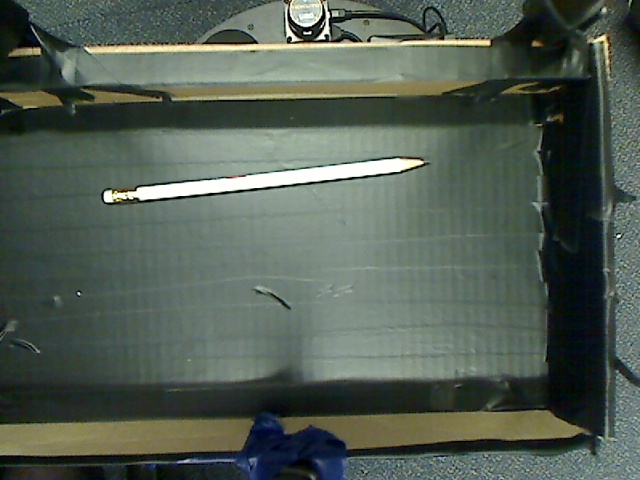pencil: (93, 147, 437, 213)
